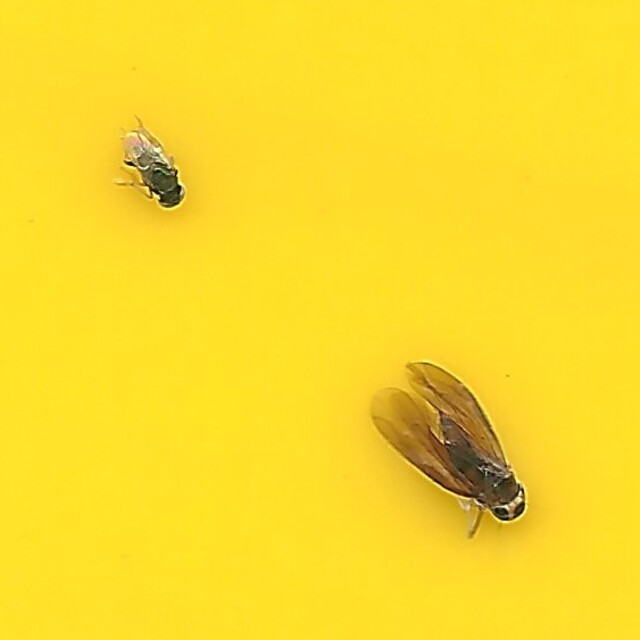Brachycera: (114, 114, 188, 211)
Hemiptera: (366, 358, 526, 526)
